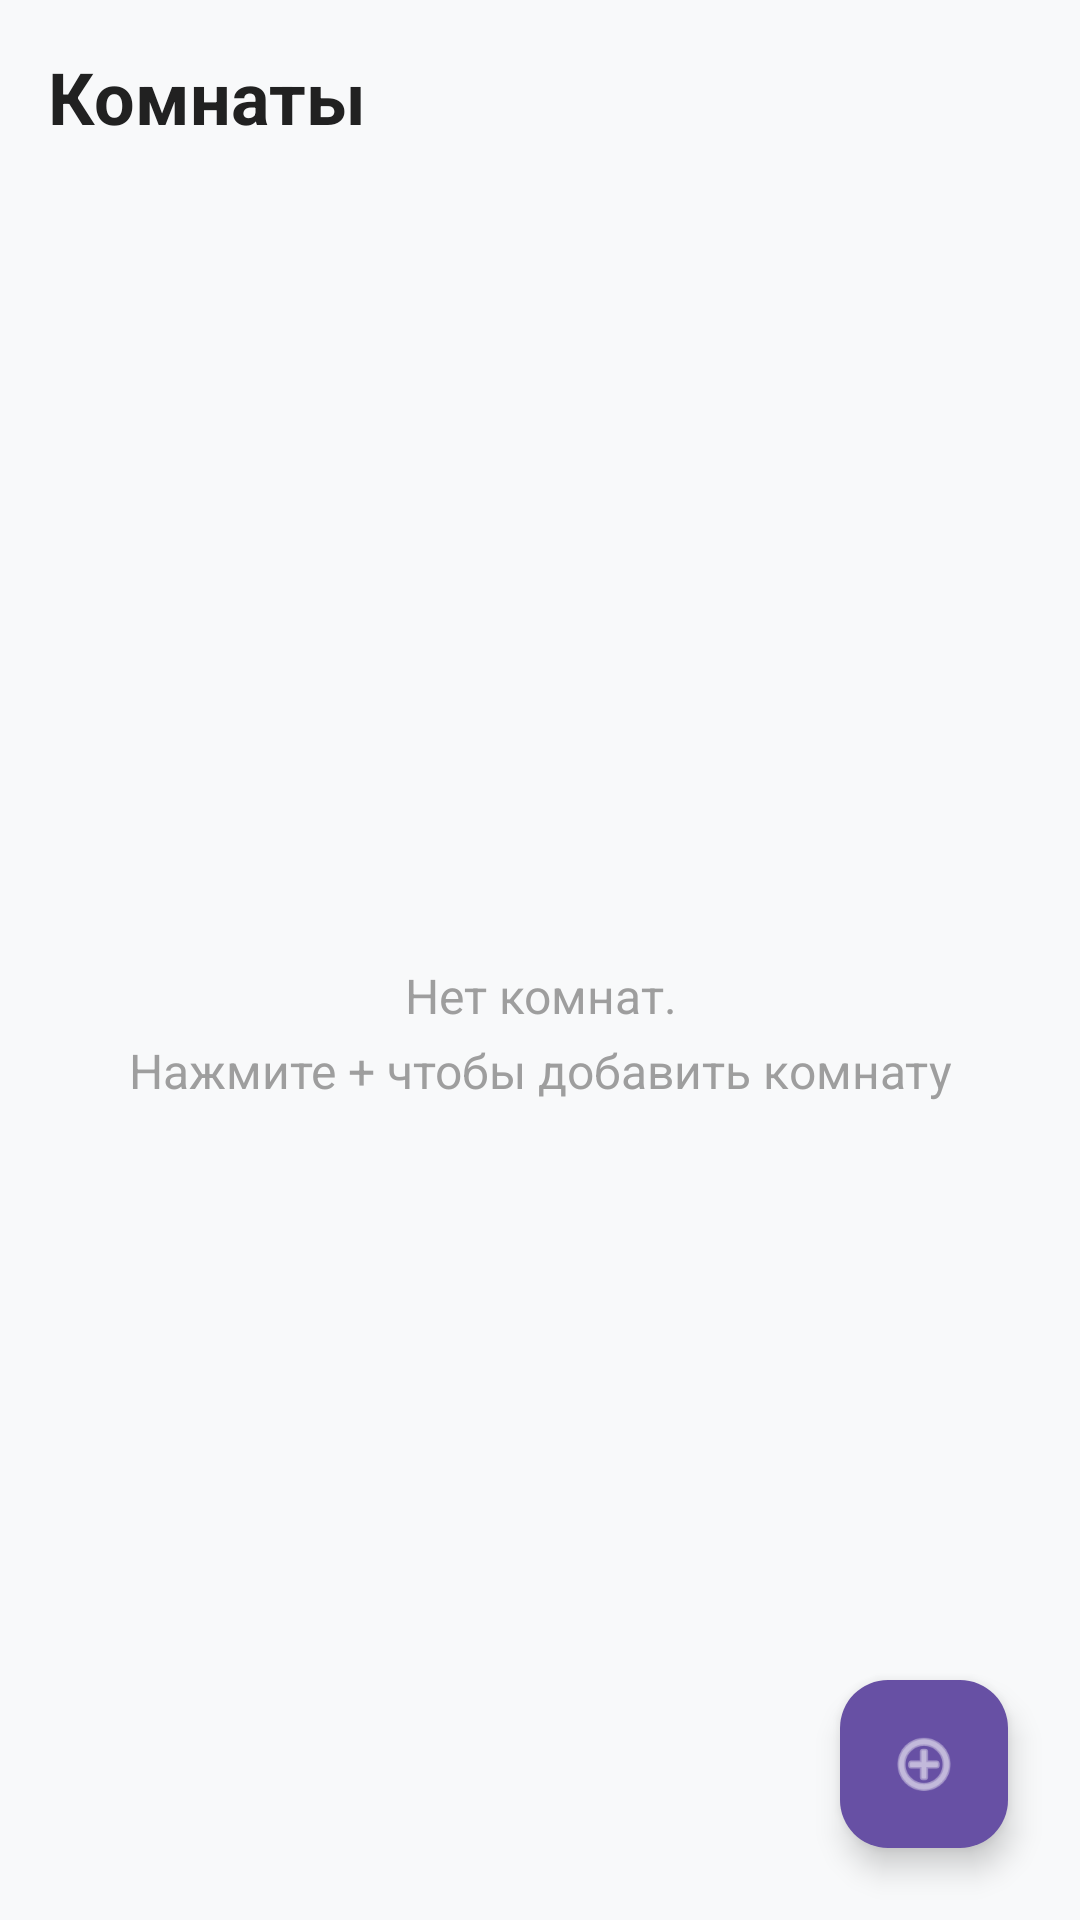

Screen size 1080*1920. Icon name, then its center in pixels as point (x, y):
Добавить комнату: point (924, 1764)
